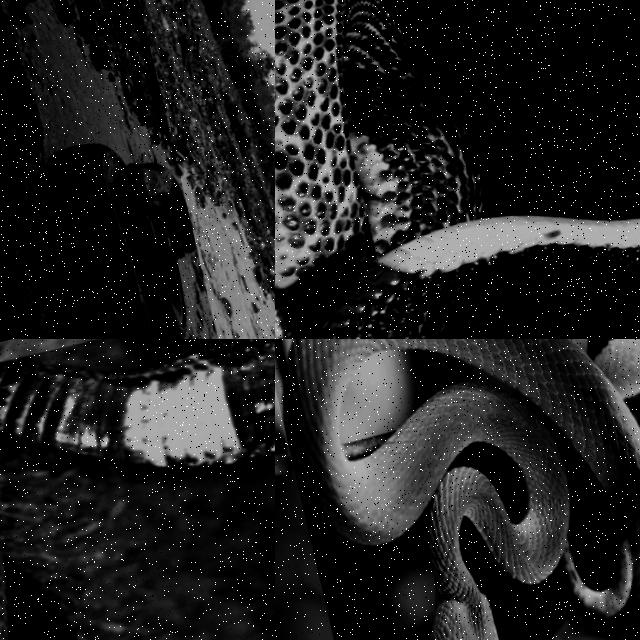Naja siamensis: (275, 0, 639, 338), (0, 339, 274, 466)
Python bivittatus: (0, 17, 39, 338)
Trimeresurus: (284, 339, 639, 639)
